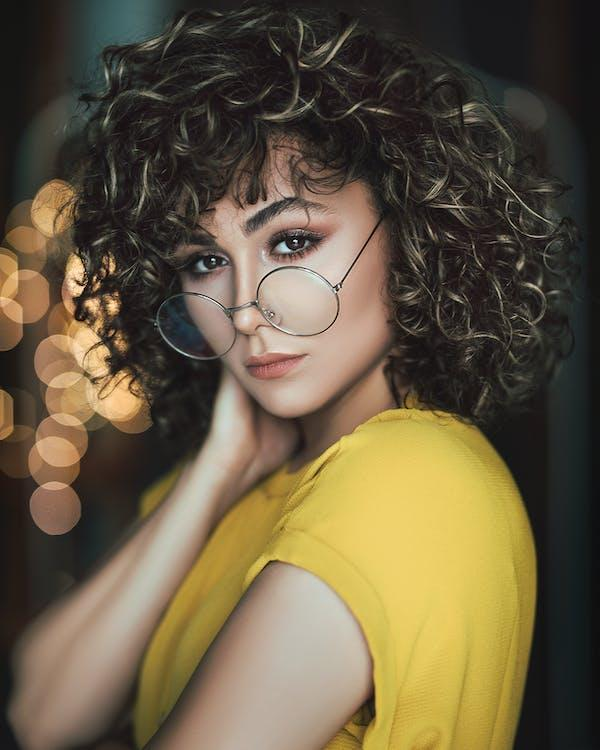eyeglasses: (144, 258, 348, 368)
